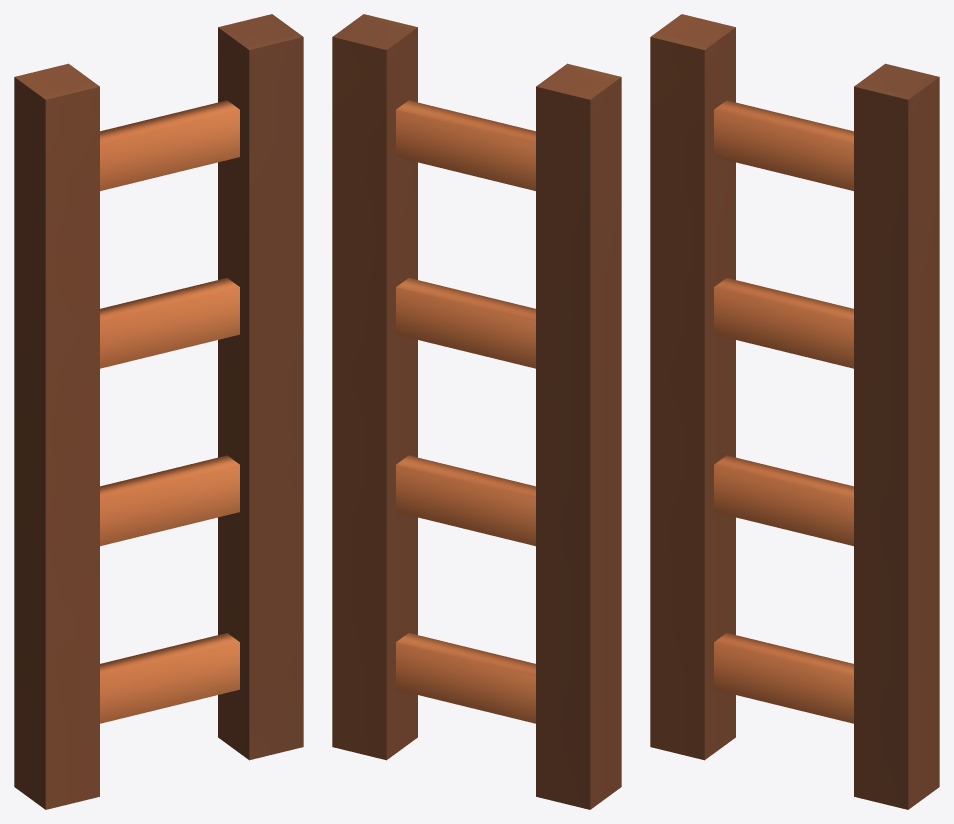
File: ladder.glb
The picture shows the model from 3 angles, left to right: view 1: azimuth 30°, elevation 25°; view 2: azimuth 150°, elevation 25°; view 3: azimuth 330°, elevation 25°; orthographic projection.
Parts seen in each view (by area): view 1: ladder; view 2: ladder; view 3: ladder.
Part boxes in pixels (left/top/right/bottom): ladder: left=14, top=14, right=303, bottom=809; ladder: left=332, top=14, right=621, bottom=809; ladder: left=650, top=14, right=939, bottom=809.
Size of the model in its own units: 0.38 by 1 by 0.08.
Materials: 1 (1 with a texture image).
